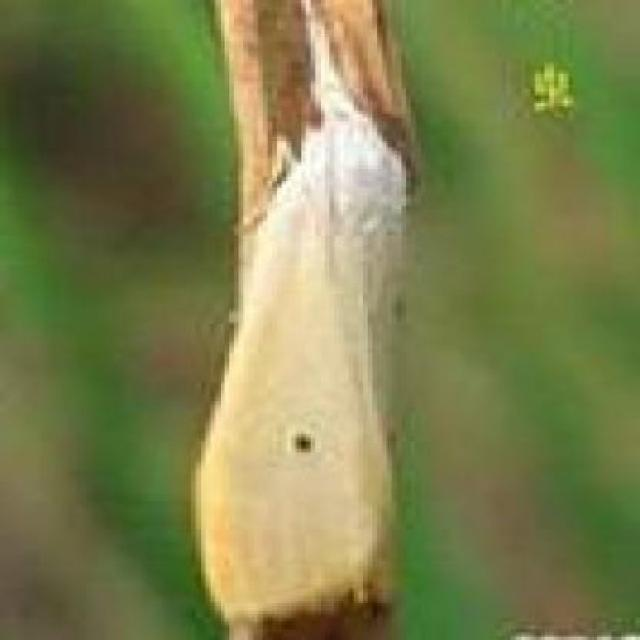stem-borer: (194, 0, 412, 640)
